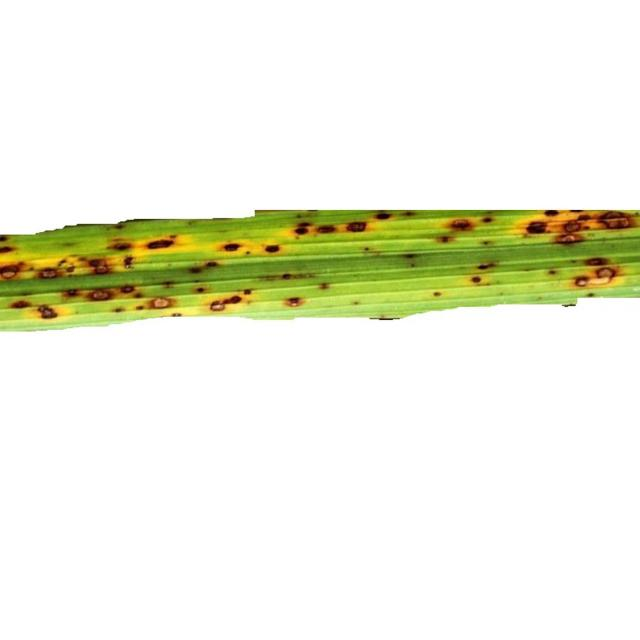Brown spot: (0, 162, 640, 356)
